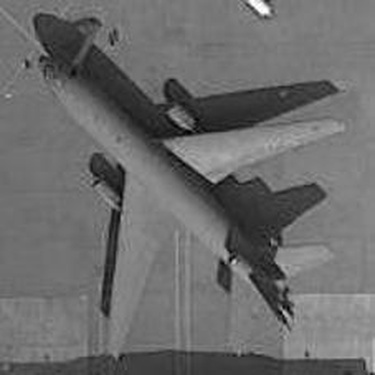airplane: (28, 27, 351, 365)
